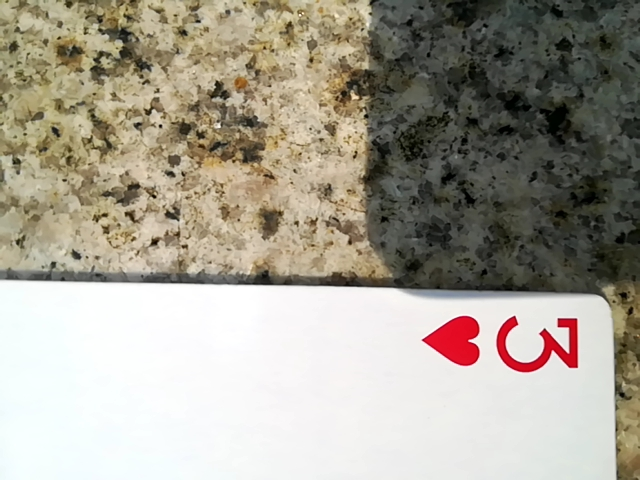hx 3: (0, 276, 622, 476)
